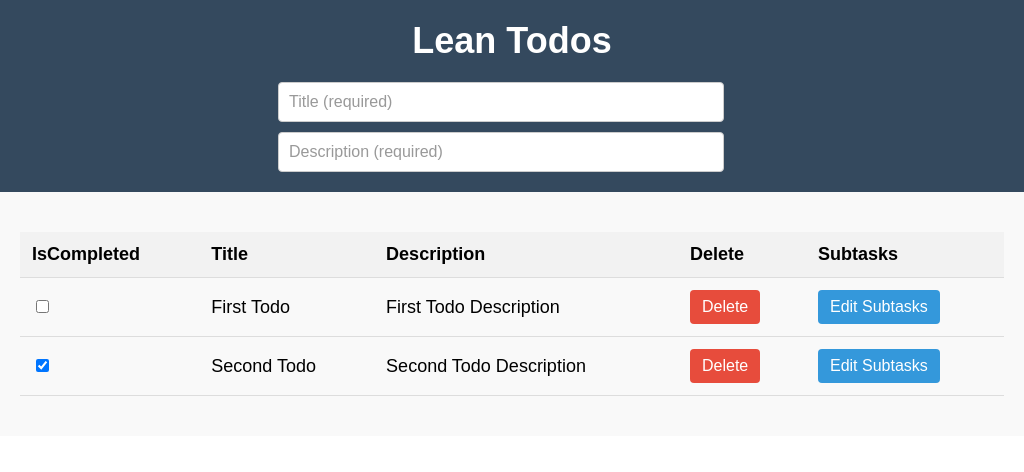
Todos › adds new task
In the field with test id "newTaskTitle": (501, 102) [278,82,724,122], type "Third Todo"
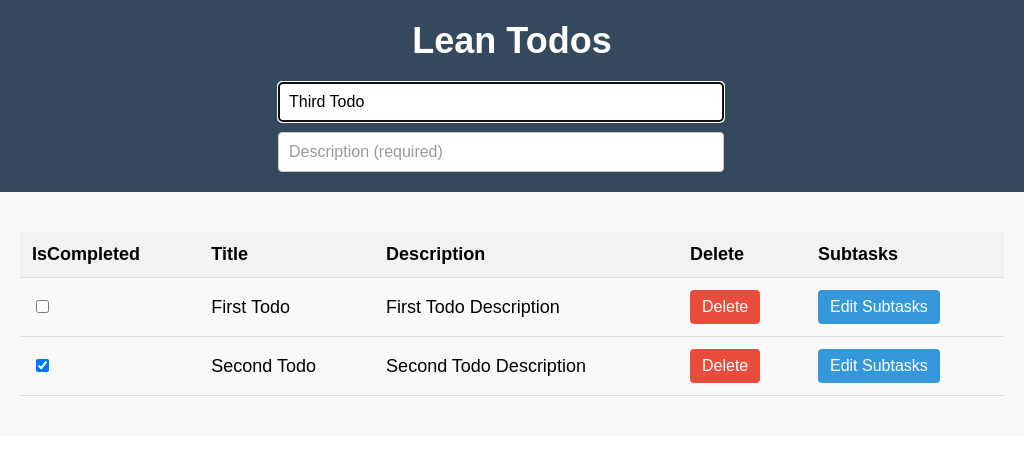
In the field with test id "newDescription": (501, 152) [278,132,724,172], type "Third Todo Description"
Then press Enter
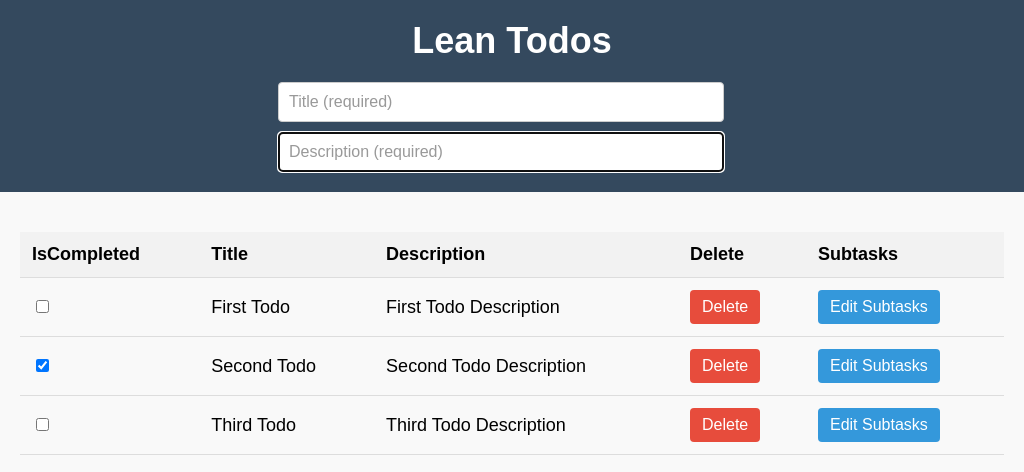
Check: the row with test id "tasks" shows "First Todo", box [20,278,1004,337]
Check: the number of rows with test id "tasks" is 3, box [20,278,1004,336]; [20,336,1004,396]; [20,396,1004,454]
Check: the row with test id "tasks" shows "Third Todo", box [20,396,1004,455]
